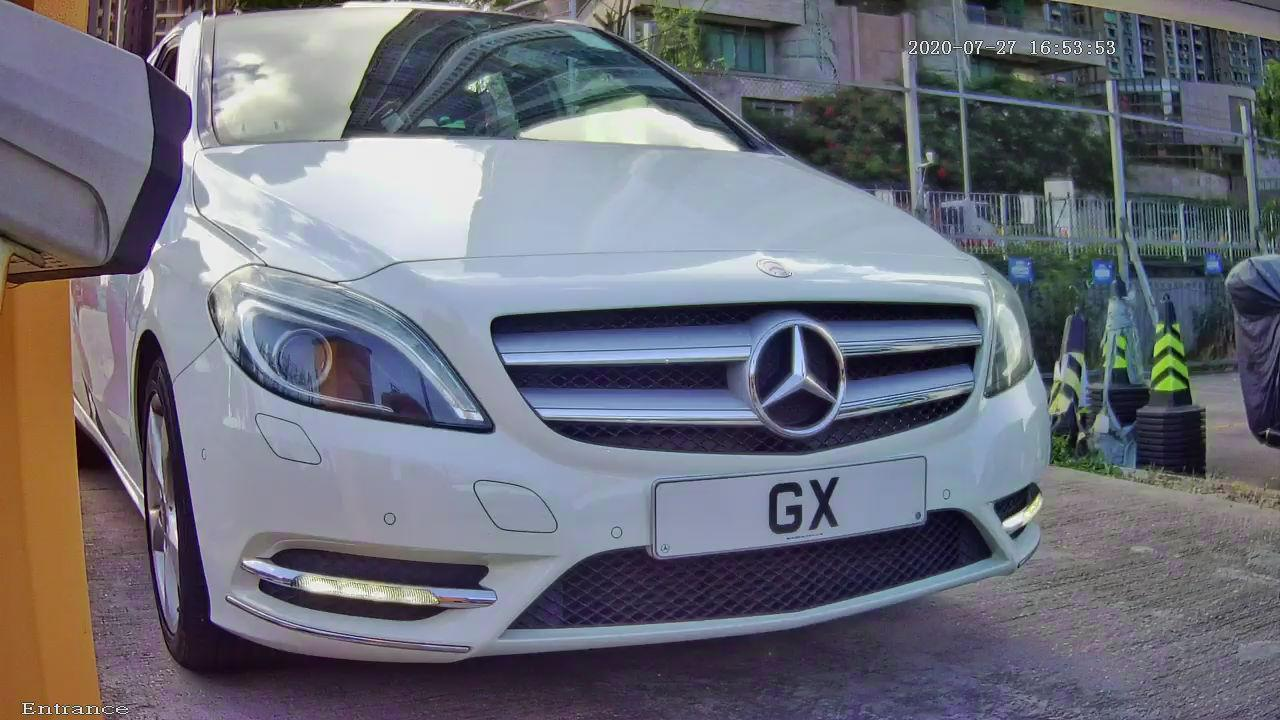privatecar: (103, 20, 1103, 685)
